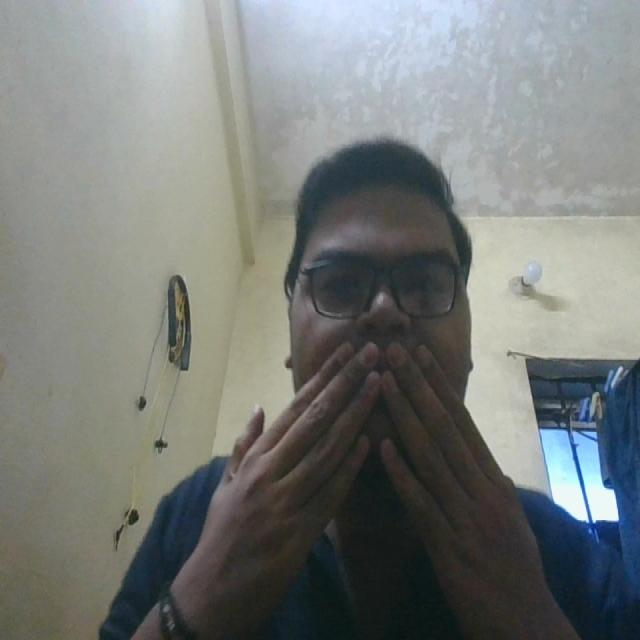Thanks: (210, 315, 533, 626)
